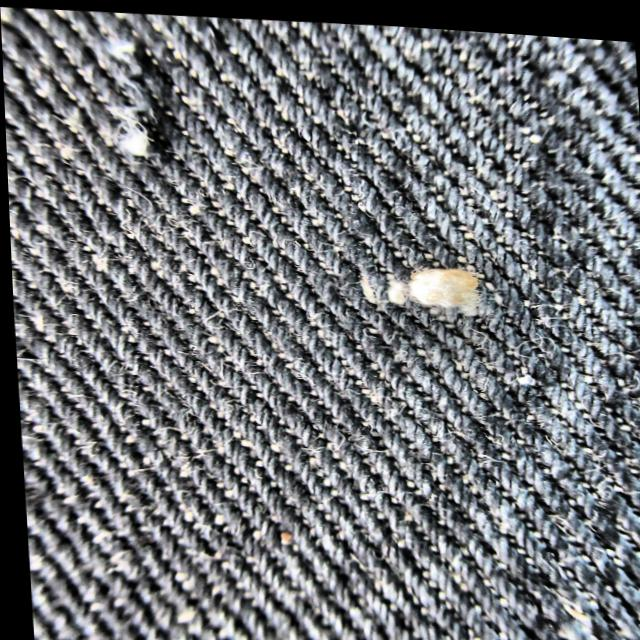Hole: (340, 231, 515, 327), (91, 37, 181, 165)
